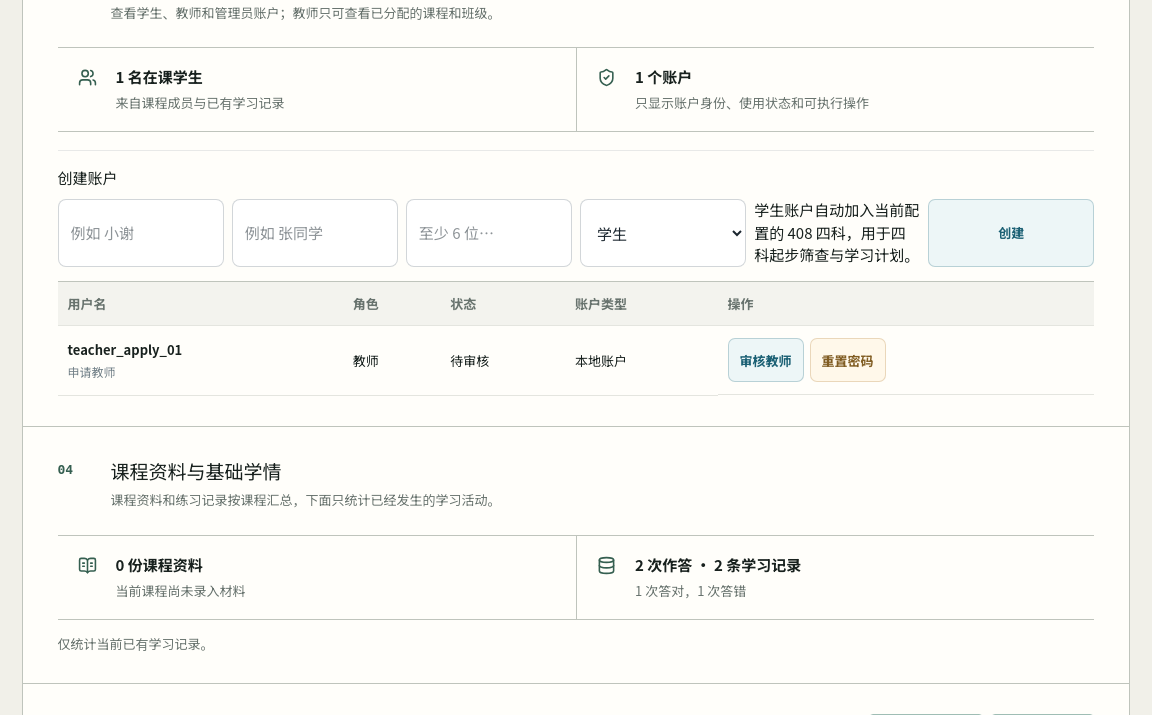
AdminEntryPage › keeps account creation available when the class list cannot be read
(page scrolled)
Expected: the heading "创建账户" is shown, [58, 167, 118, 188]
Click the button "审核教师". click: (766, 360)
box: [728, 338, 804, 382]
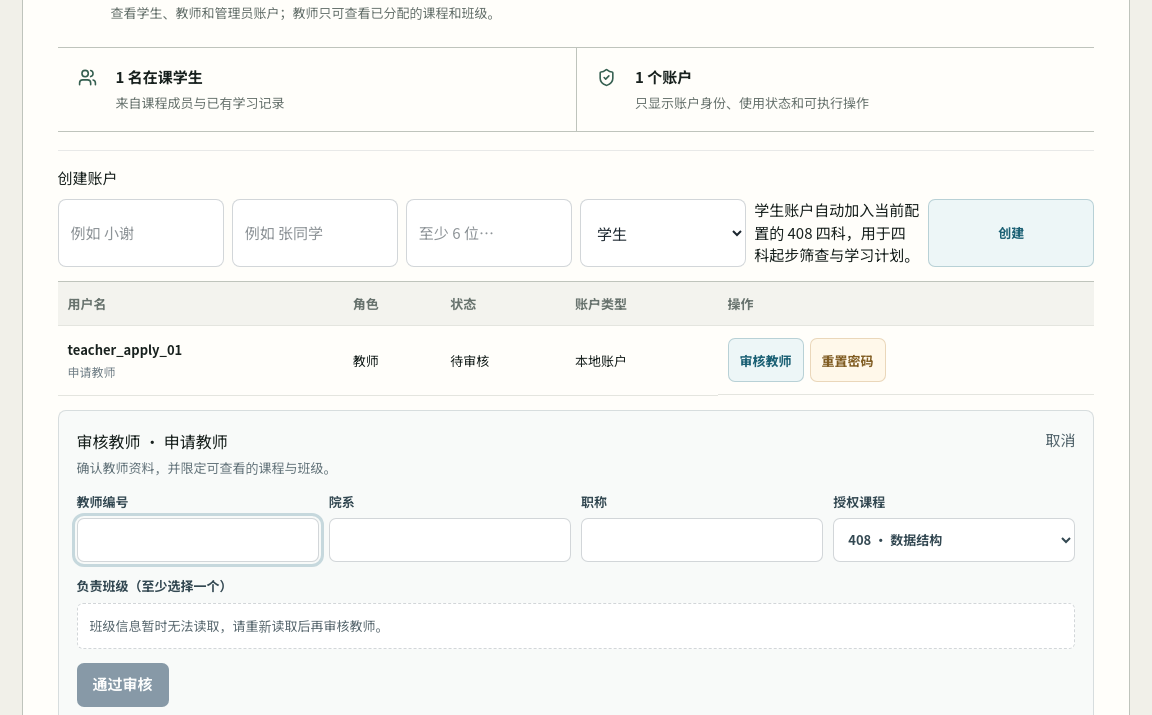
Expected: the message shows "班级信息暂时无法读取，请重新读取后再审核教师", [90, 616, 388, 635]
Expected: the button "通过审核" is disabled, [76, 663, 168, 707]
